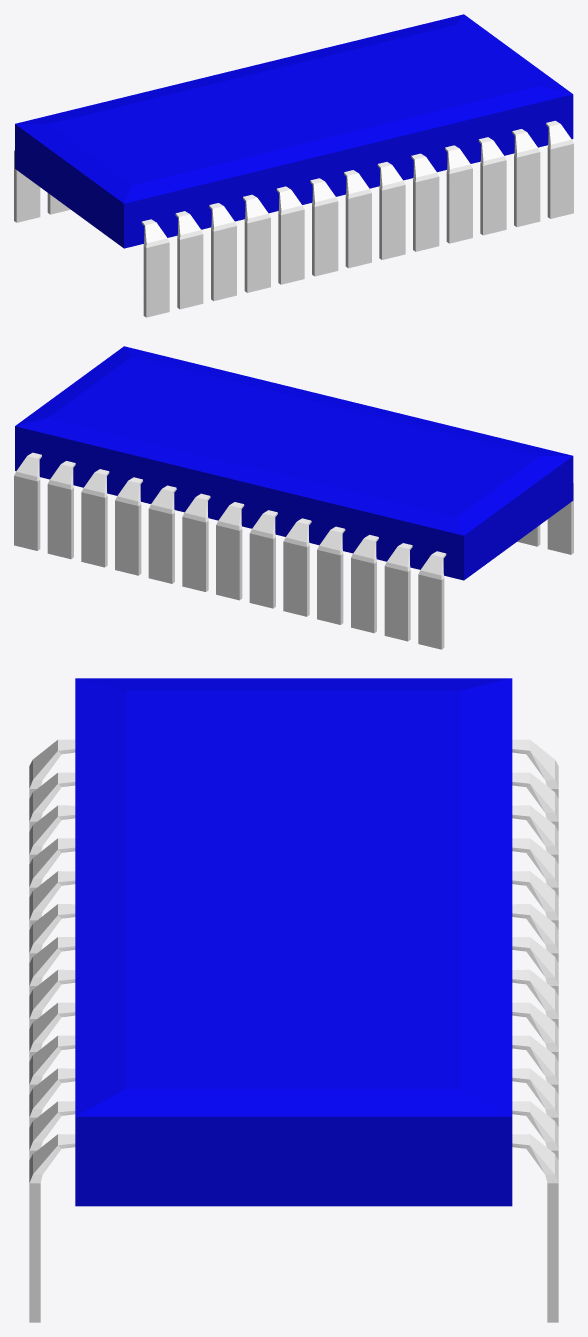
File: SpaceshipUpgradeBlueprint.dae
3 views of the same model, one above another, from view 1: azimuth 30°, elevation 25°; view 2: azimuth 150°, elevation 25°; view 3: azimuth 270°, elevation 25° (orthographic). The views are drawn at different scales.
Visible parts, largest first — view 1: Cube; view 2: Cube; view 3: Cube.
Part boxes in pixels (x1,y1,x2,y2): Cube: [14, 14, 573, 317]; Cube: [14, 346, 573, 649]; Cube: [29, 678, 558, 1322].
Bounding box in the file's own units: 0.4848 × 0.2473 × 0.1155.
